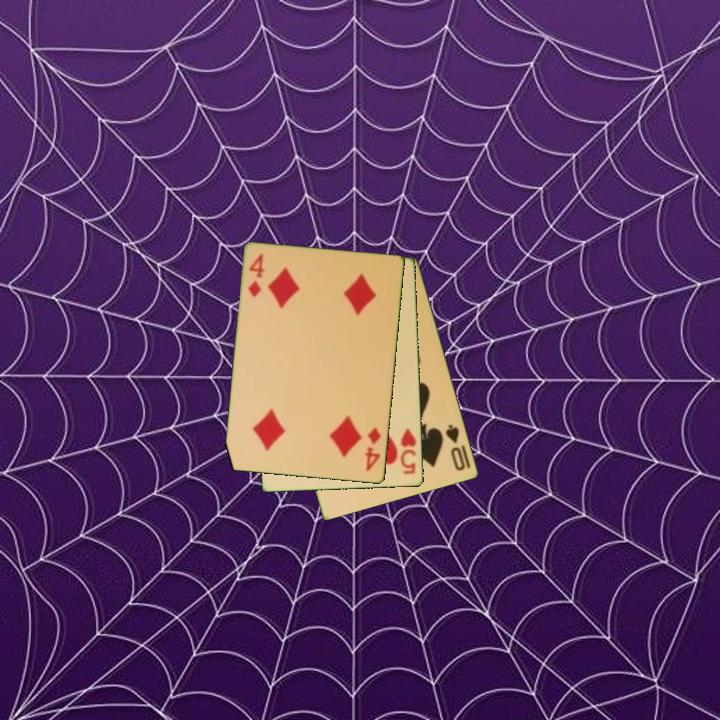10s: (442, 421, 468, 474)
4d: (245, 250, 268, 300), (362, 424, 384, 474)
5h: (397, 425, 419, 477)
